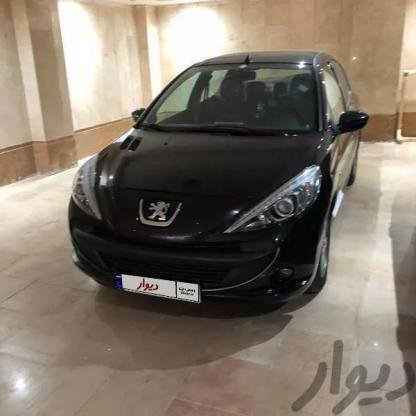Car: (60, 48, 355, 320)
